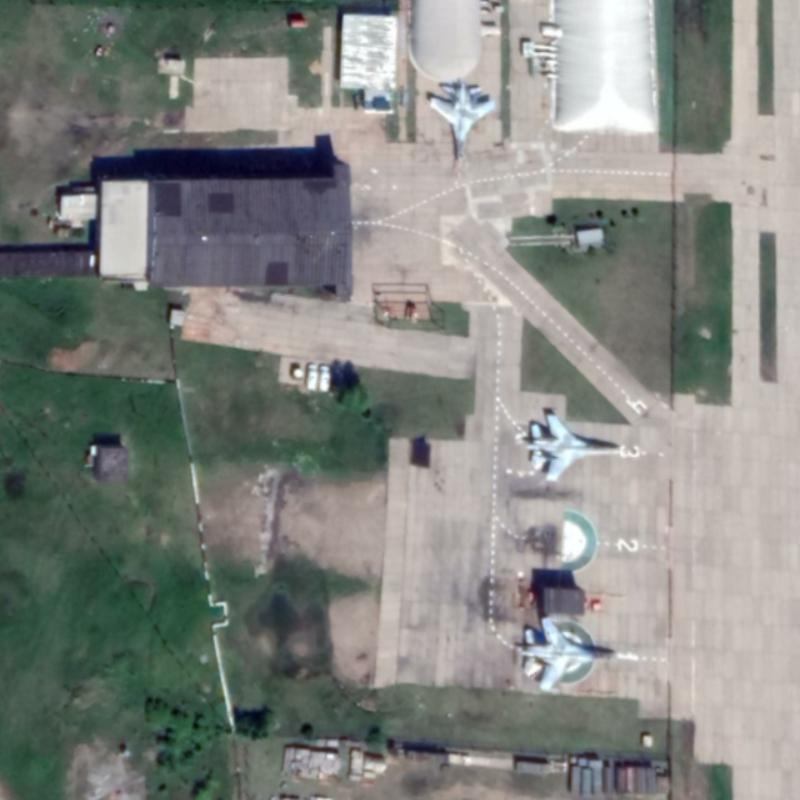A1: (518, 614, 623, 691), (521, 407, 629, 481), (425, 78, 496, 171)
